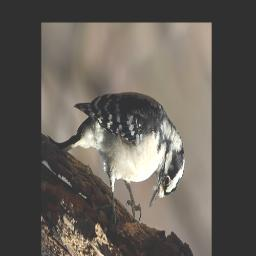Woodpecker: (55, 92, 184, 223)
